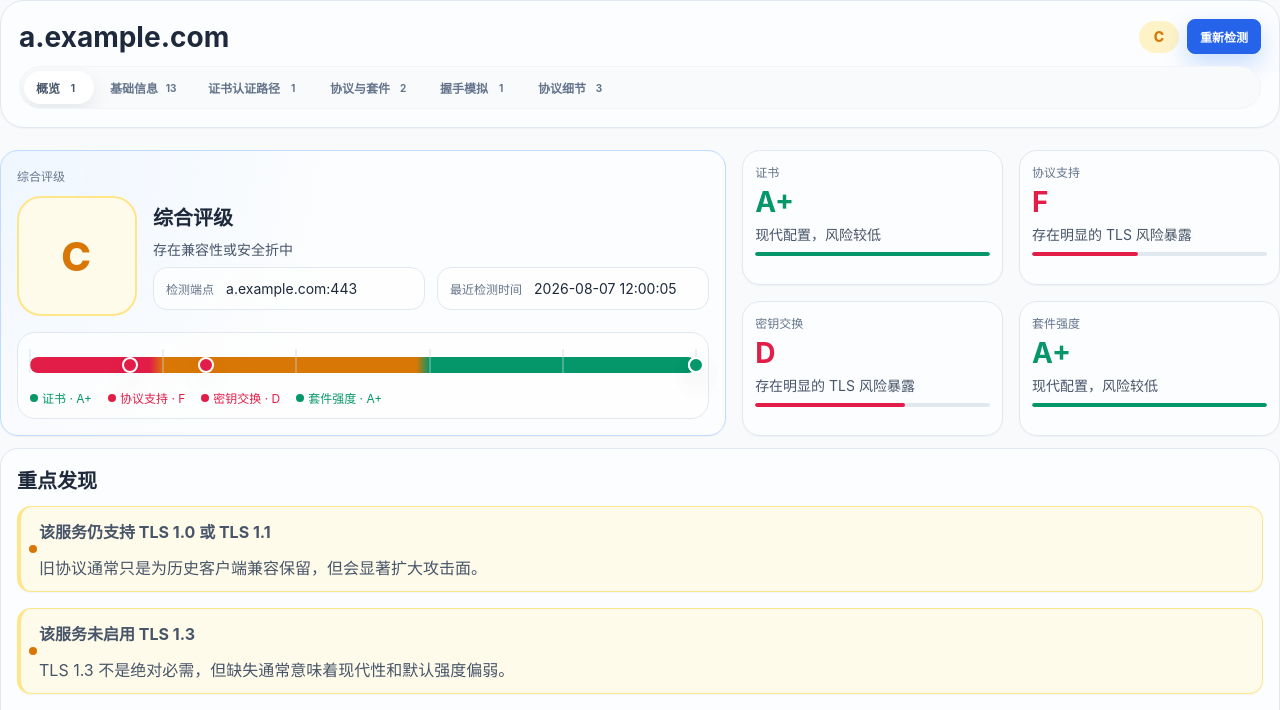
MonitorTlsDetailView › 展示 TLS 深度详情并支持页签切换
Expected: the number of elements with class "tls-inline-facts__item" is 2, [153,267,425,310]; [437,267,709,310]
Expected: the text with class "monitor-tls-page__header-grade" reads "C", [1154,28,1164,45]
Click the tab "握手模拟 1" at point(475, 88), box [428,71,522,104]
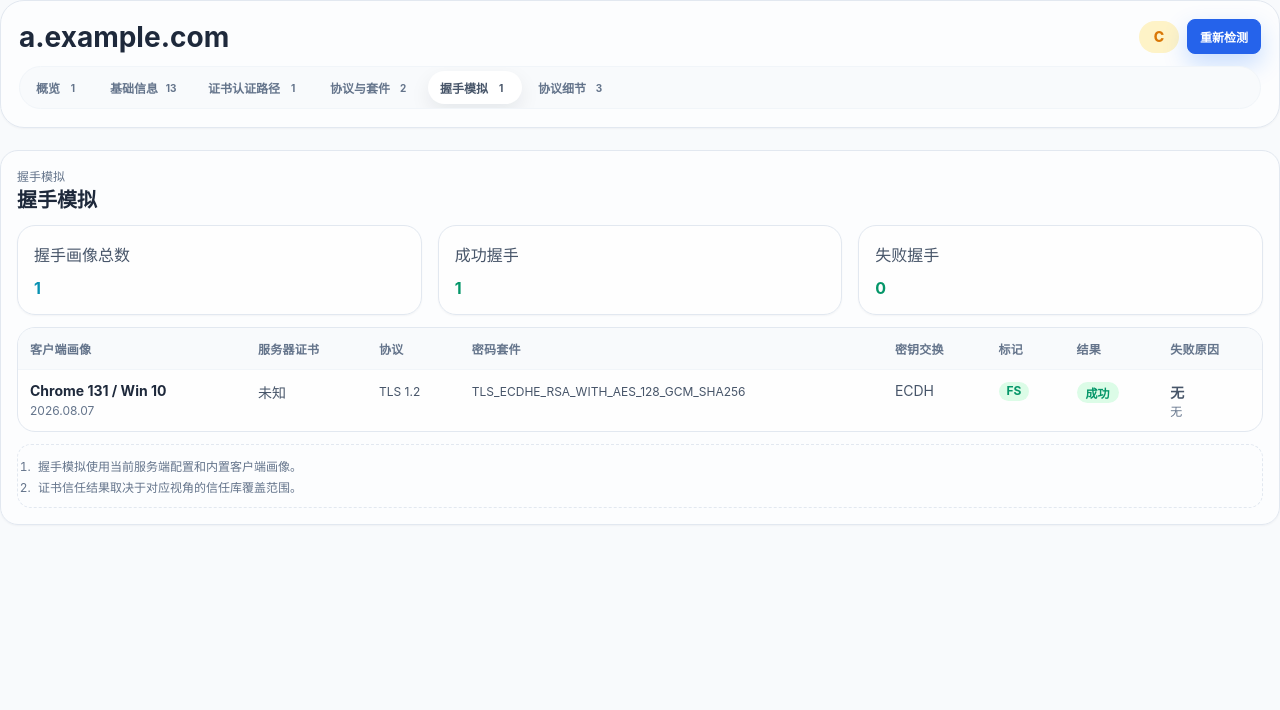
Result: the text "ECDH" is shown at [472,384,746,399]
Click the tab "证书认证路径 1" at point(255, 88), box [196,71,314,104]
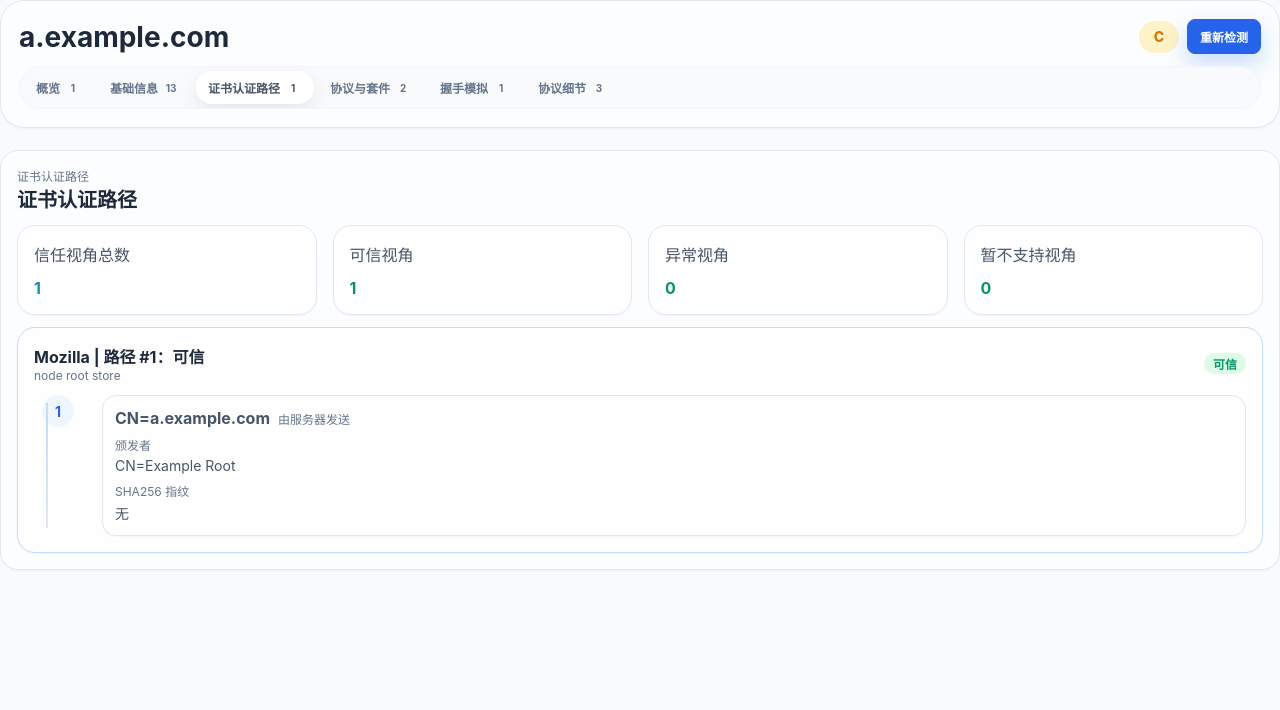
Result: the text "Mozilla" is shown at [34,347,204,367]
Click the tab "协议与套件 2" at point(371, 88), box [318,71,424,104]
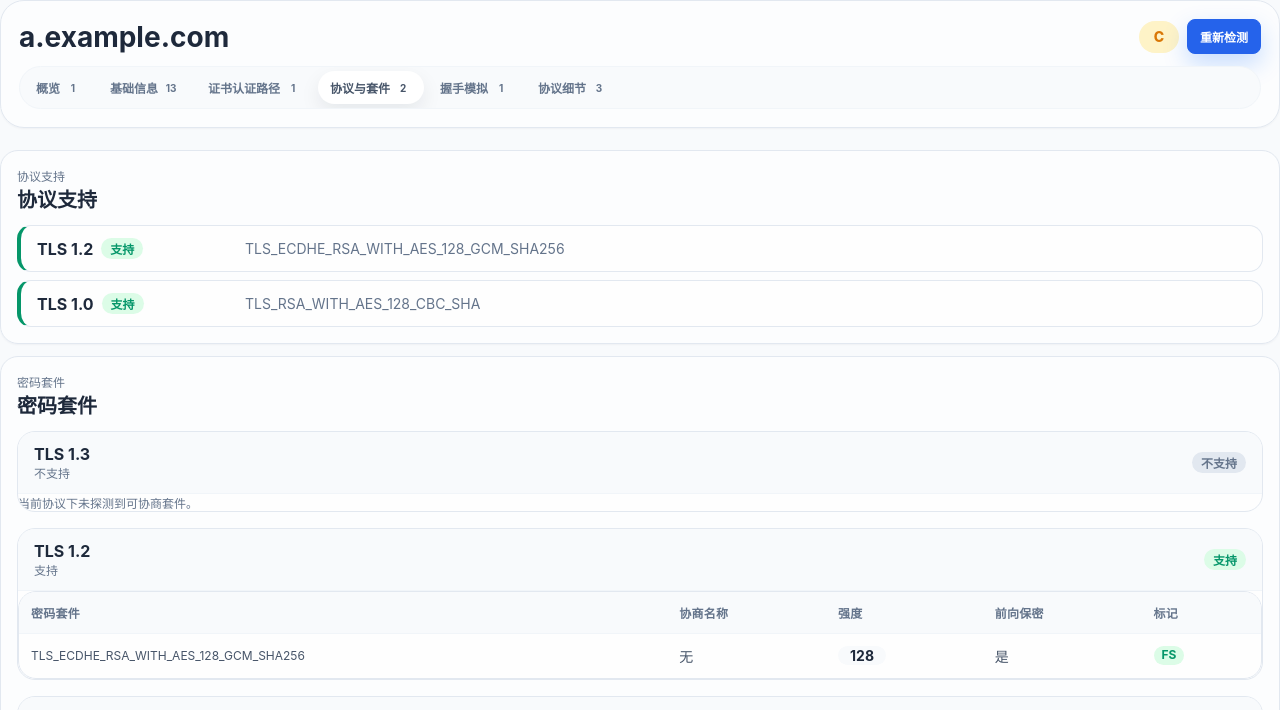
Result: the text "TLS_ECDHE_RSA_WITH_AES_128_GCM_SHA256" is shown at [245,240,565,257]
Click the tab "协议细节 3" at point(573, 88), box [526,71,620,104]
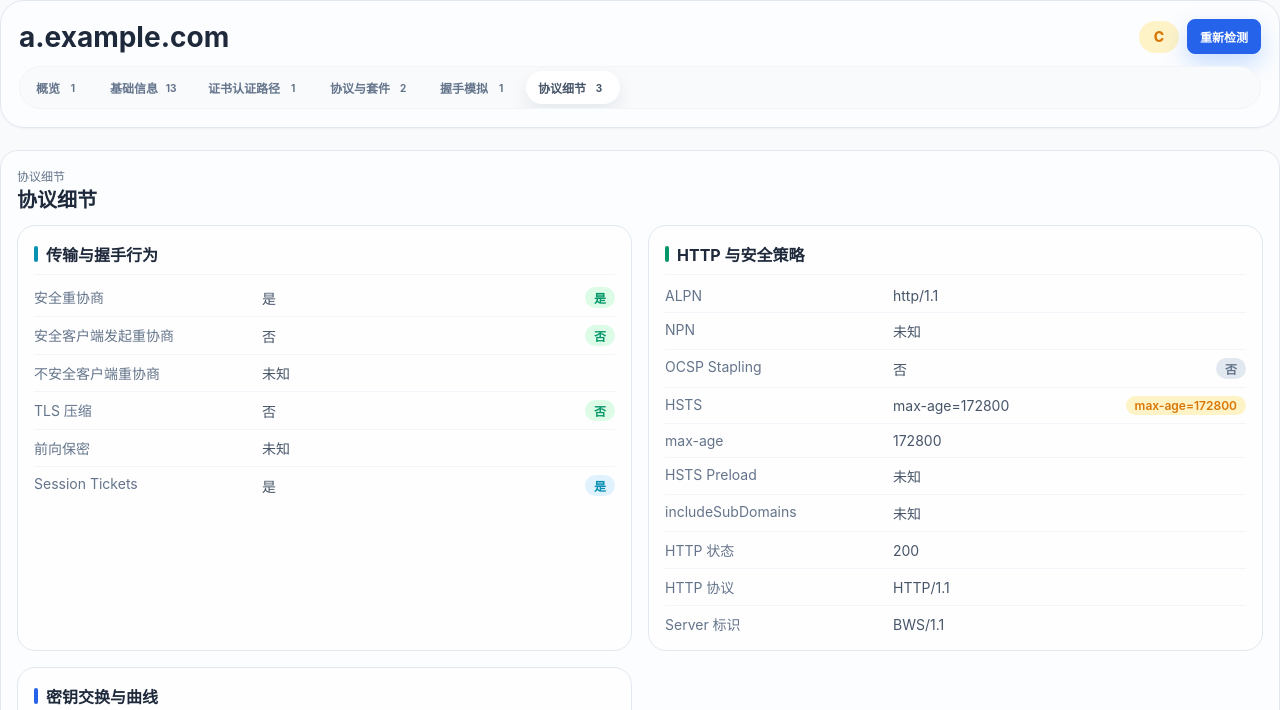
Result: the text "max-age=172800" is shown at [893,397,1009,414]
Result: the text "BWS/1.1" is shown at [893,616,944,632]
